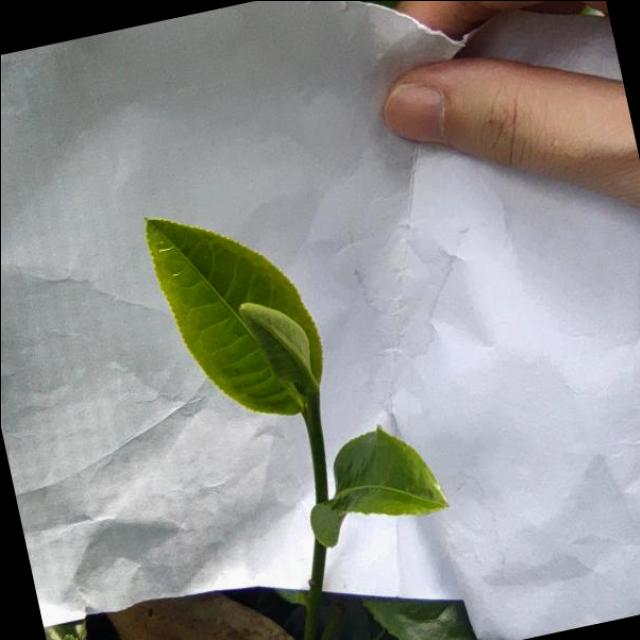Stem: (306, 413, 319, 430)
